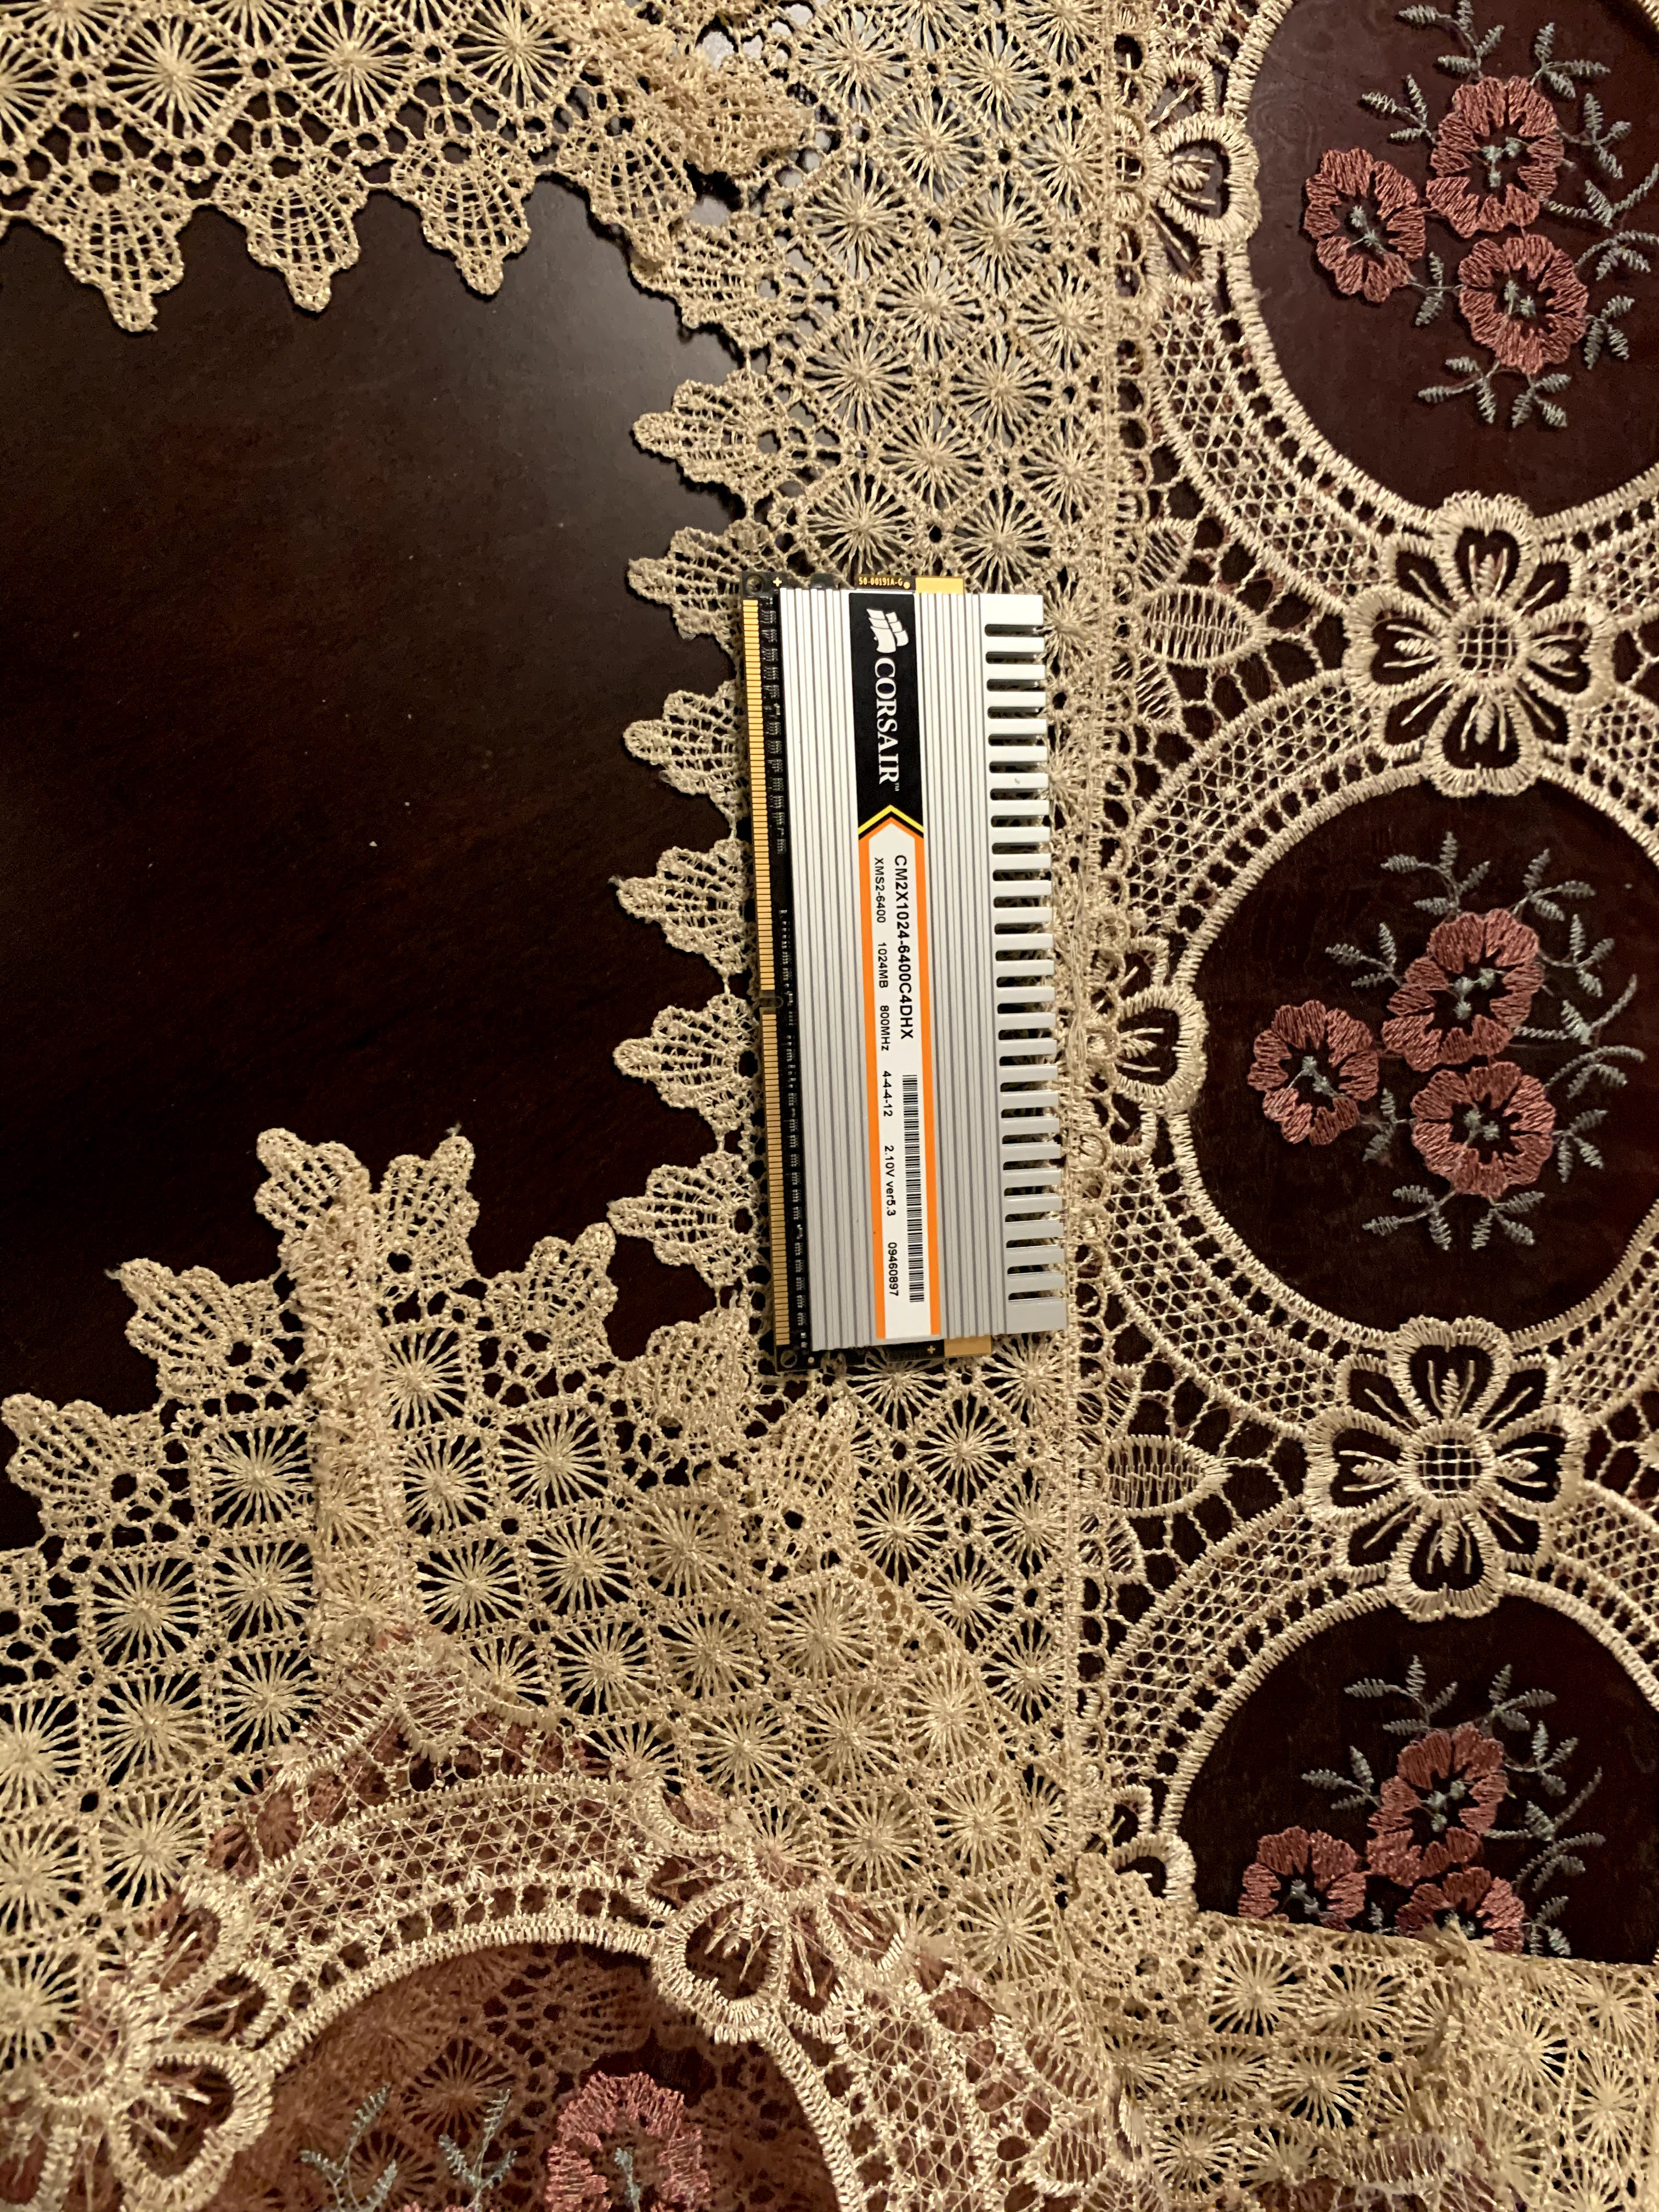Space-debris-medium: (721, 564, 1091, 1383)
